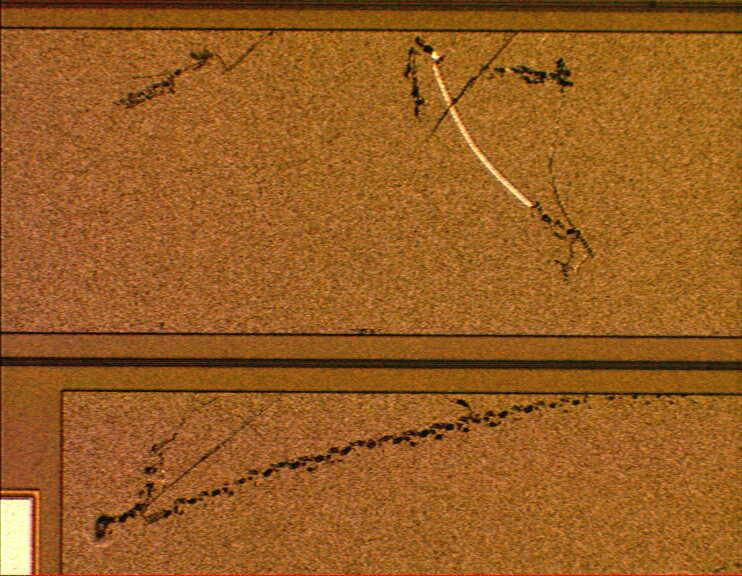SCRATCH: (89, 19, 723, 546)
